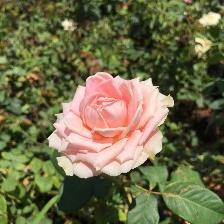rose: (47, 72, 177, 179)
